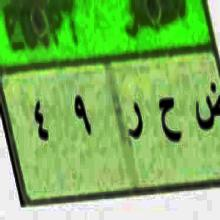4: (30, 96, 51, 152)
7aa: (155, 94, 182, 148)
9: (74, 91, 92, 143)
daad: (192, 83, 220, 134)
raa: (126, 96, 144, 148)
